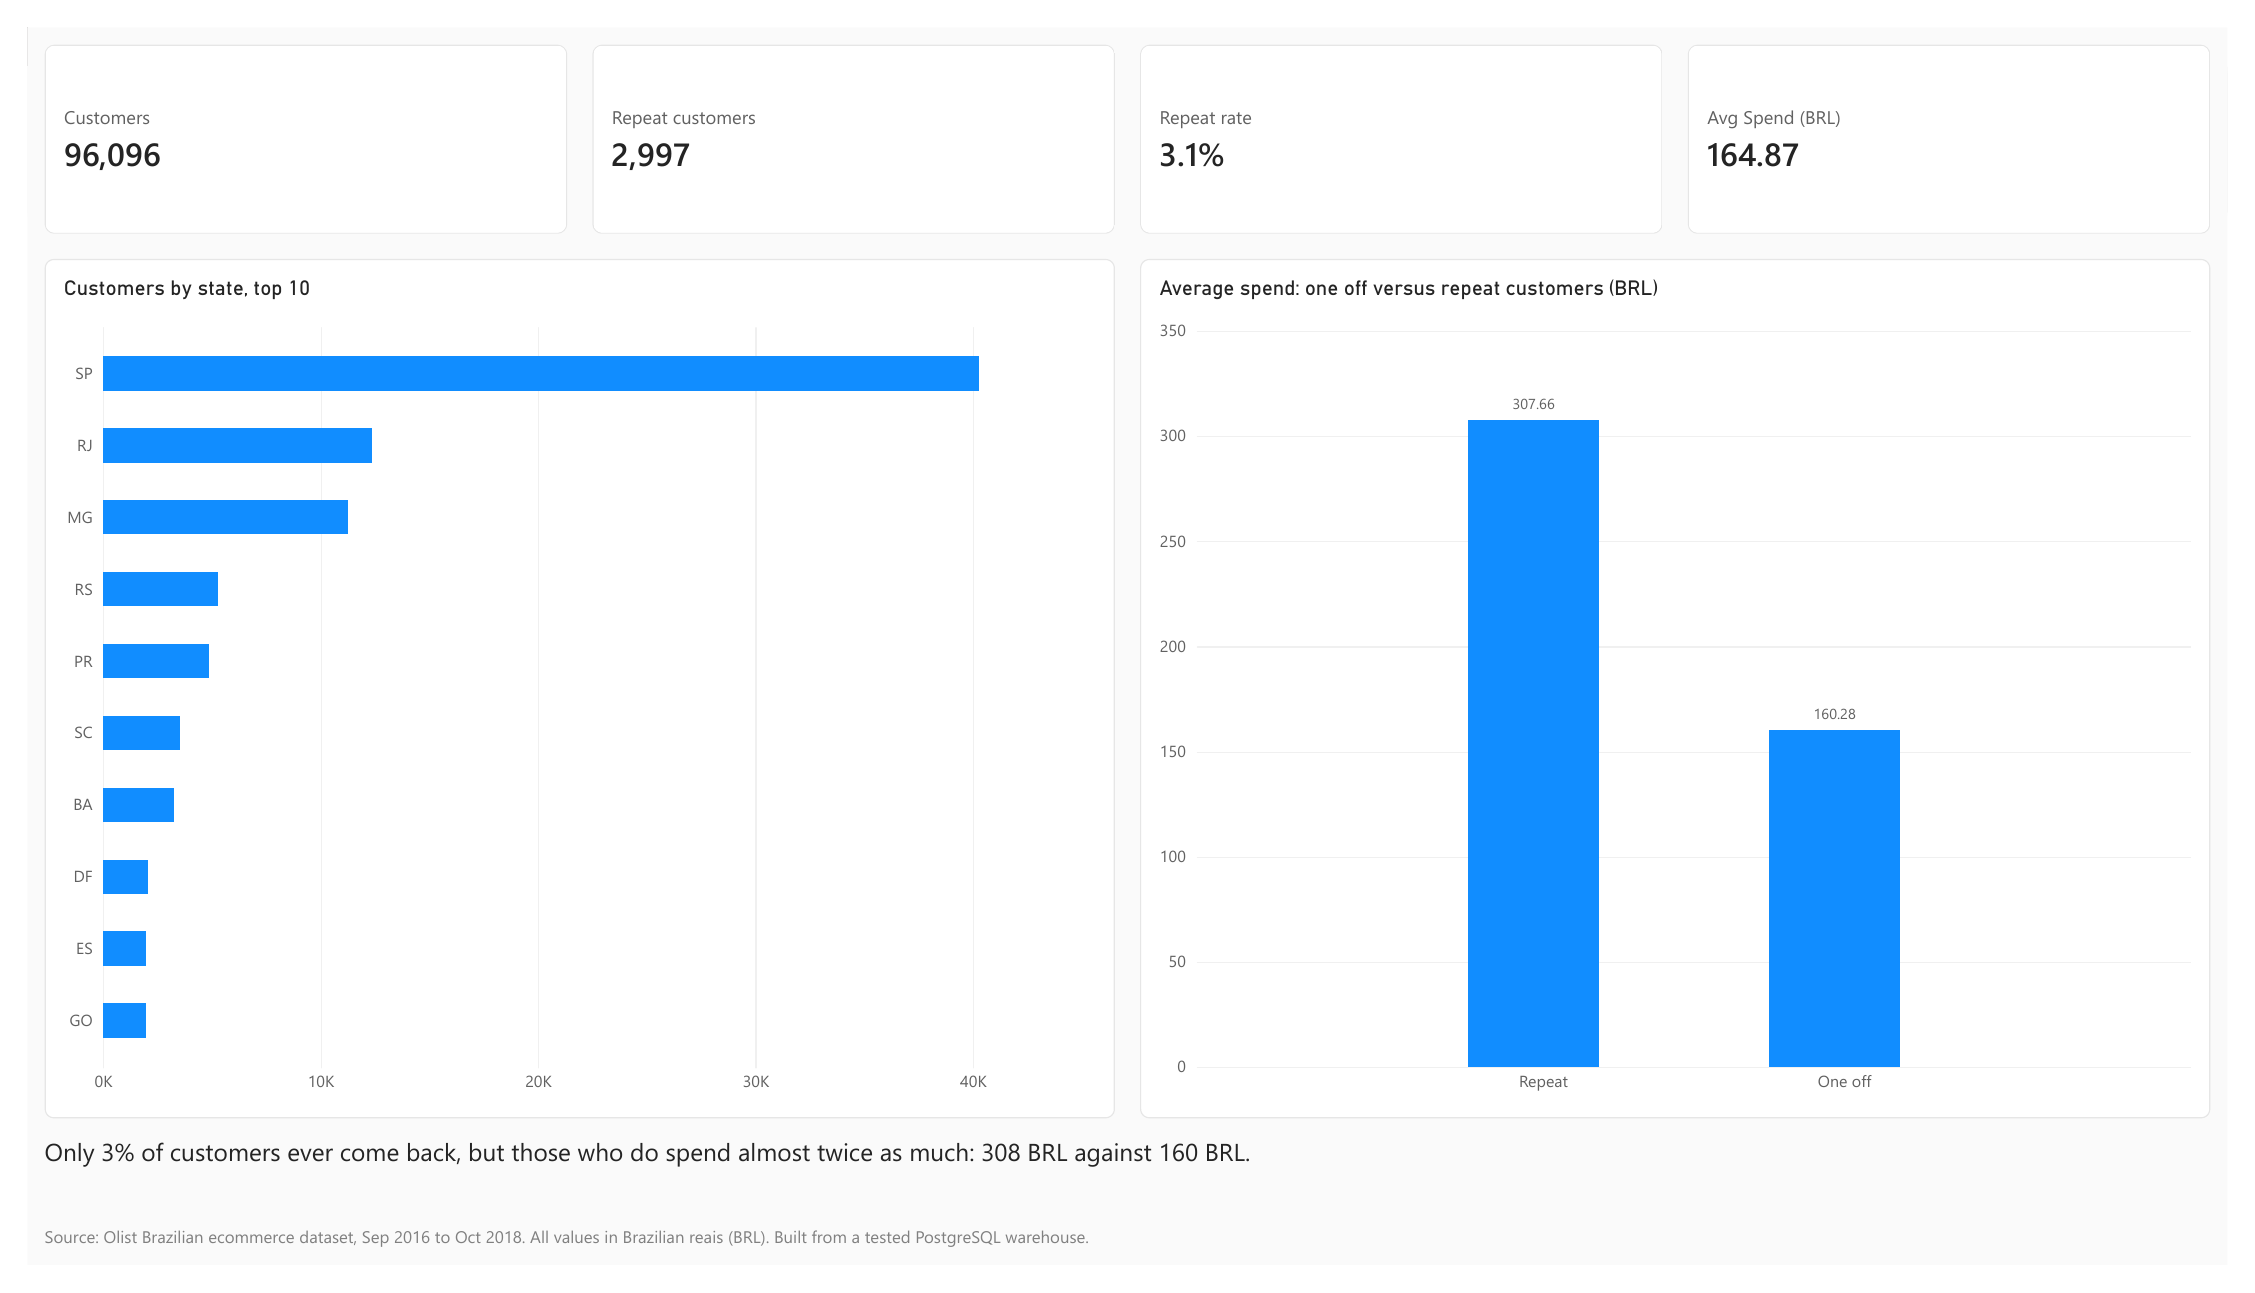

This screenshot's page, from the dashboard's own definition file:
{"tool":"powerbi","page":{"name":"Customers","canvas":[1920,1080],"ordinal":2},"visuals":[{"type":"cardVisual","fields":{"Data":["customer_performance.Repeat Rate"]},"box":[971,15,456,165],"z":0},{"type":"cardVisual","fields":{"Data":["customer_performance.Avg Spend"]},"box":[1449,15,456,165],"z":1000},{"type":"barChart","title":"Customers by state, top 10","fields":{"Category":["customer_performance.customer_state"],"Y":["customer_performance.Customers"]},"box":[15,202,934,750],"z":2000},{"type":"clusteredColumnChart","title":"Average spend: one off versus repeat customers (BRL)","fields":{"Category":["customer_performance.Customer Type"],"Y":["customer_performance.Avg Spend"]},"box":[971,202,934,750],"z":3000},{"type":"textbox","box":[15,967,1890,60],"z":4000},{"type":"cardVisual","fields":{"Data":["customer_performance.Customers Label"]},"box":[15,15,456,165],"z":5000},{"type":"cardVisual","fields":{"Data":["customer_performance.Repeat Customers Label"]},"box":[493,15,456,165],"z":6000},{"type":"textbox","box":[15,1045,1890,30],"z":7000}]}

Visuals, with their boxes in screenshot pixels (x1, y1, x2, y2), scaled from the page's 1920x1080 canvas onto the 2255x1293 screenshot:
cardVisual - customer_performance.Repeat Rate: rect(1140, 18, 1676, 216)
cardVisual - customer_performance.Avg Spend: rect(1702, 18, 2237, 216)
"Customers by state, top 10" barChart: rect(18, 242, 1115, 1140)
"Average spend: one off versus repeat customers (BRL)" clusteredColumnChart: rect(1140, 242, 2237, 1140)
textbox: rect(18, 1158, 2237, 1230)
cardVisual - customer_performance.Customers Label: rect(18, 18, 553, 216)
cardVisual - customer_performance.Repeat Customers Label: rect(579, 18, 1115, 216)
textbox: rect(18, 1251, 2237, 1287)
